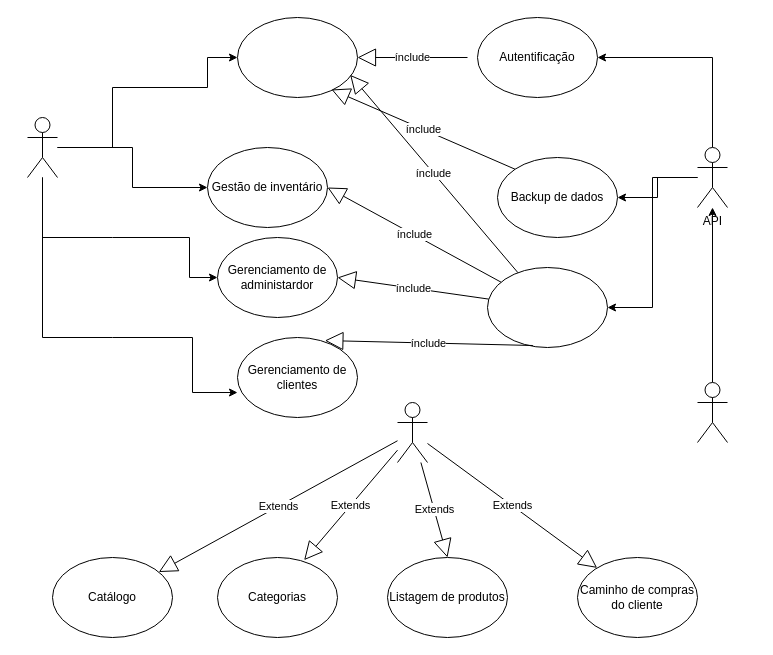
The diagram is 773 pixels wide and 655 high, and some of its shapes have lost their labels. Here are the shapes that lost their labels. From the top down, the centre of each, then its label:
At point 297,57: "Cadastro de produtos".
At point 42,147: "Vendedor".
At point 547,307: "Segurança de informações".
At point 412,432: "Cliente".
At point 712,412: "Banco de dados".
